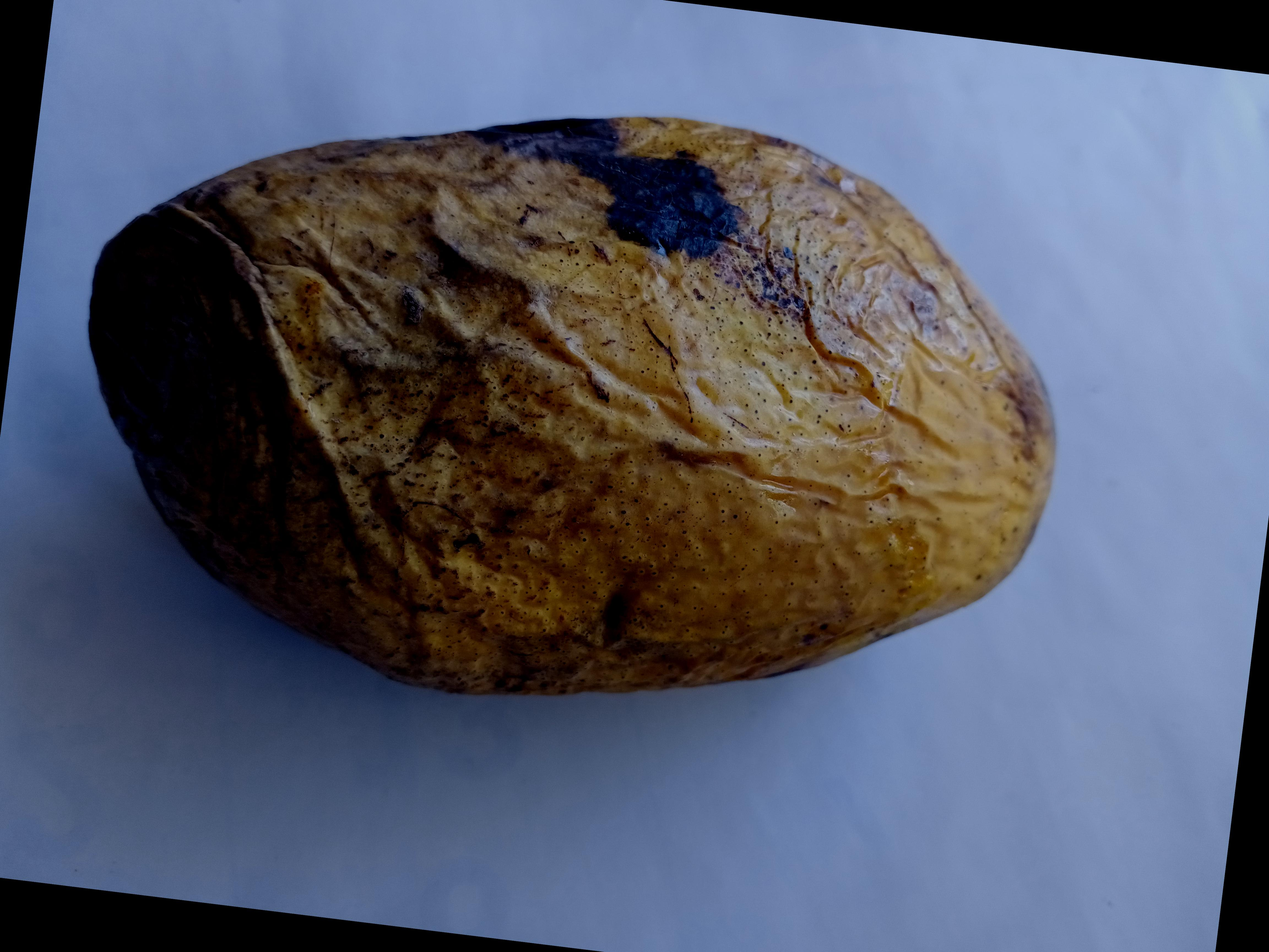Mango Overripe: (103, 0, 1195, 672)
